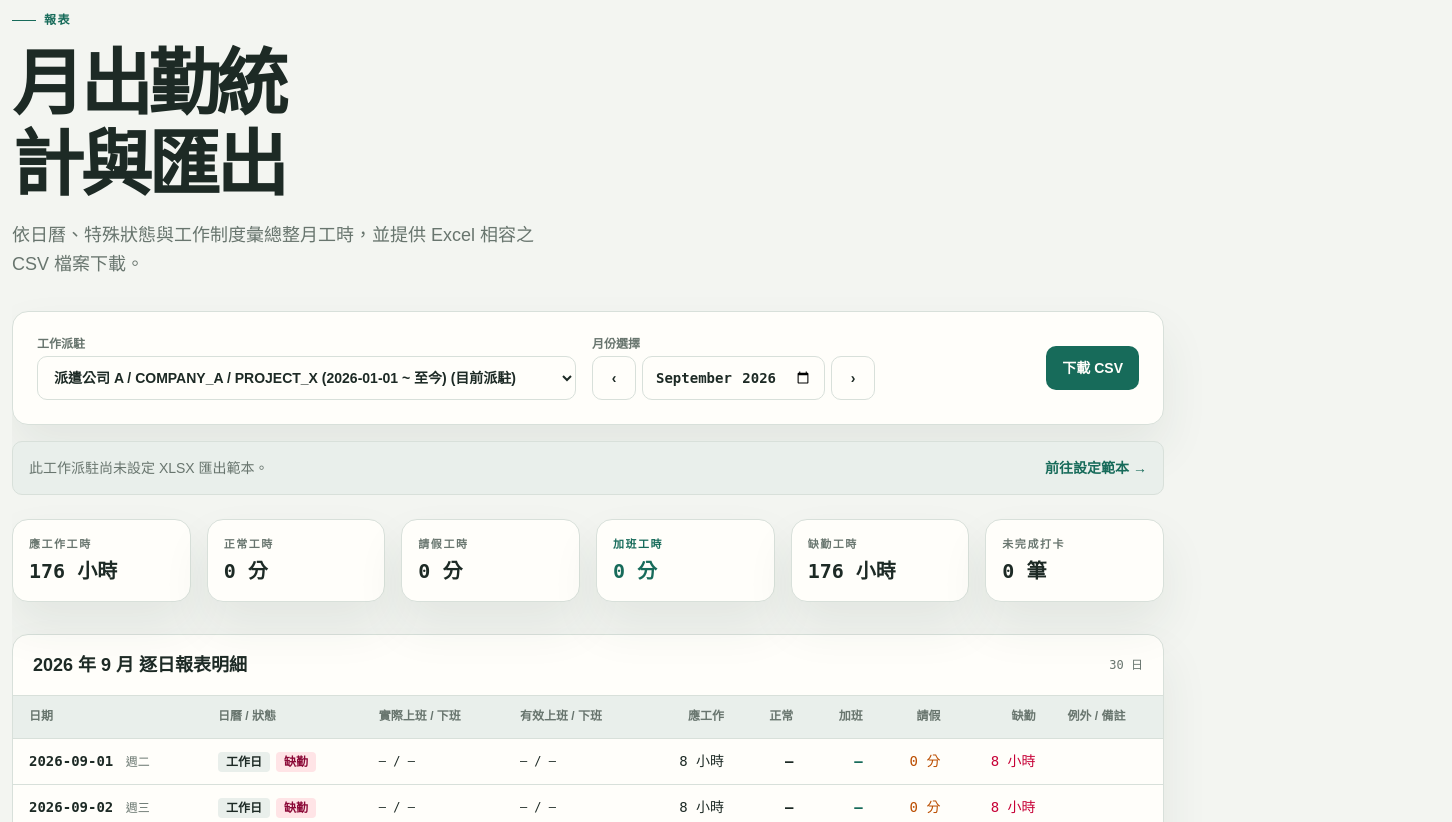
Test: ReportView › Async Scope Consistency: query failure 時清除報表並呈現 error banner，不殘留 stale report
Expected: the element with test id "summary-scheduled" is shown, [12,519,191,602]
Select "派遣公司 B / COMPANY_B / PROJECT_Y (2025-01-01 ~ 2025-12-31) (已結束)" in the dropdown with test id "assignment-select": [306, 378] box [37,356,576,400]
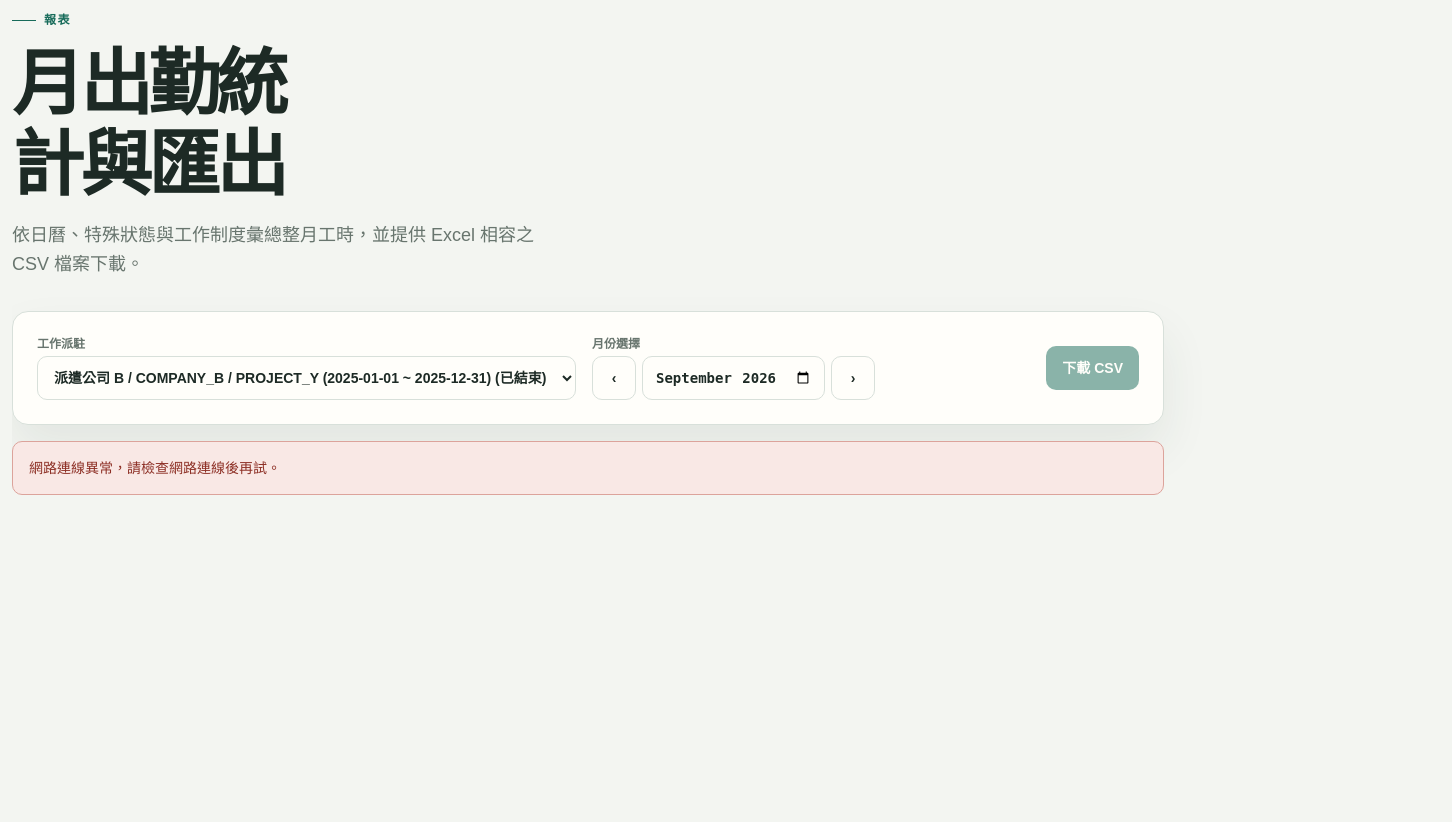
Result: the message "網路連線異常，請檢查網路連線後再試。" is shown at [12,441,1164,495]
Result: no rows with test id "report-row" are shown
